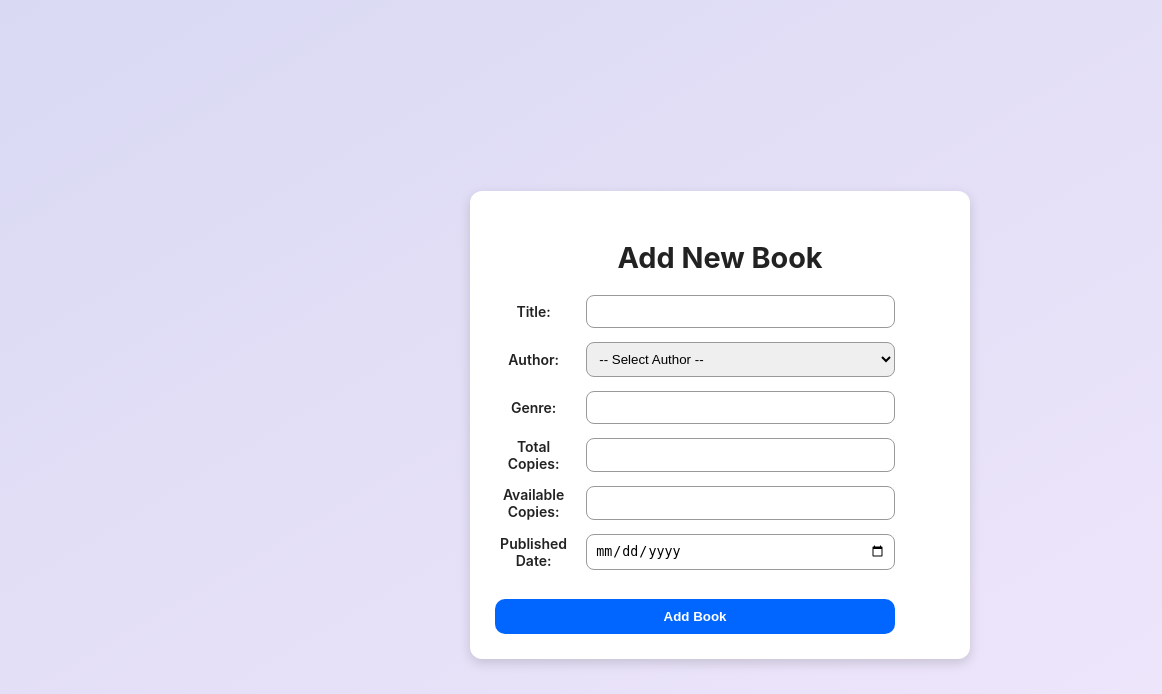
BookForm Behavior Tests › updates form fields correctly when typing
Step 1. Type "My Book" into the field labelled "Title:" → (741, 312), box [586,295,895,328]
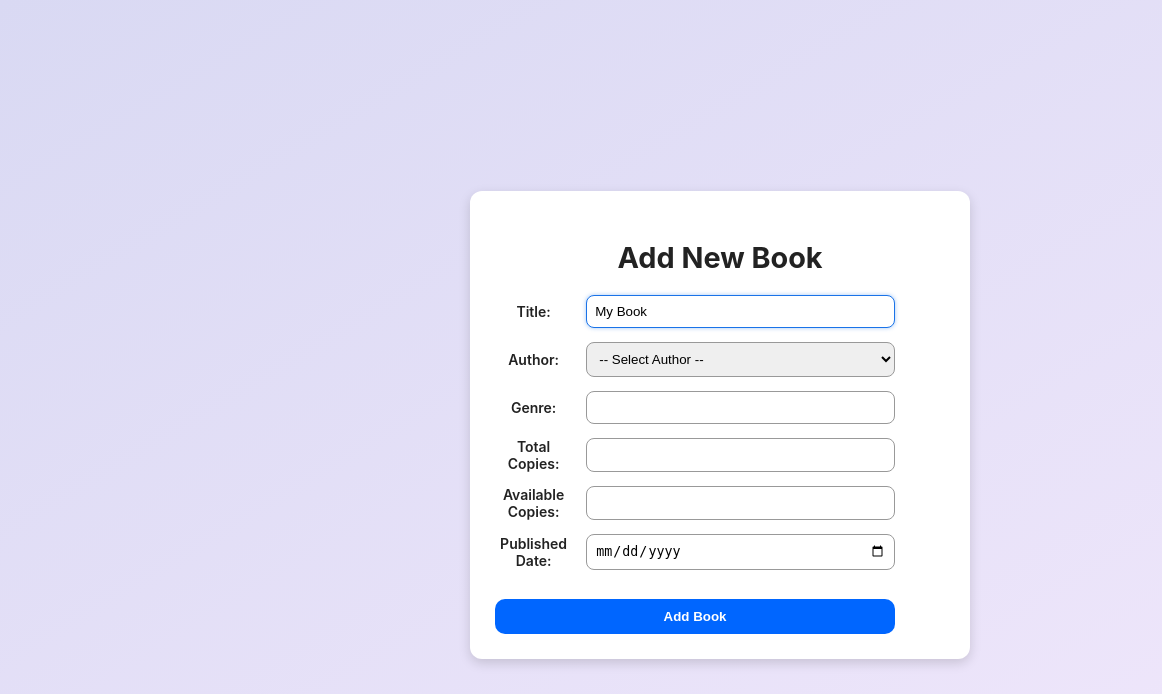
Step 2. Type "Fiction" into the field labelled "Genre:" → (741, 408), box [586,391,895,424]
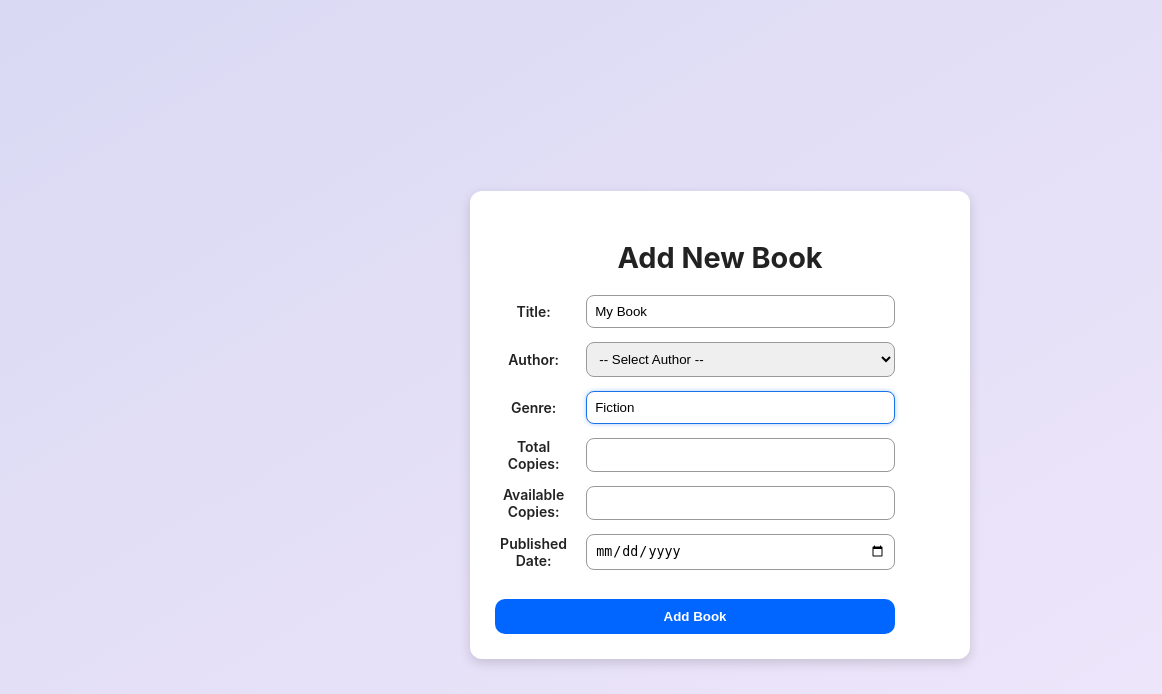
Step 3. Type "5" into the number field labelled "Total Copies:" → (741, 455), box [586,438,895,472]
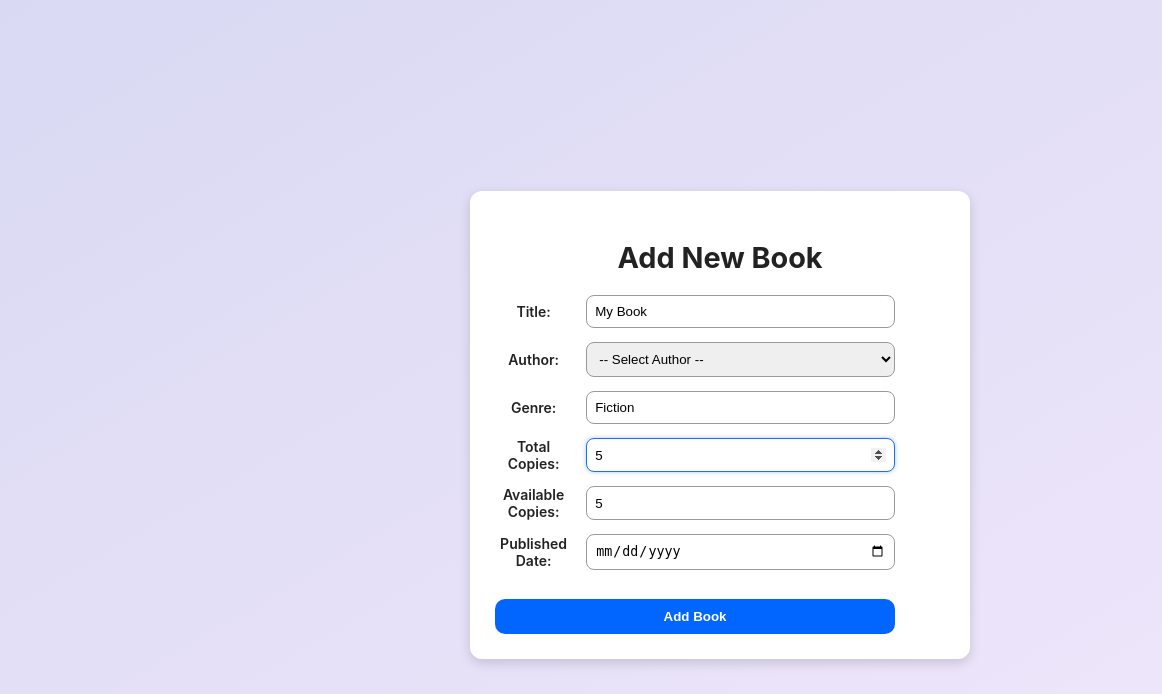
Expected: the number field labelled "Available Copies:" holds "5", [586,486,895,520]
